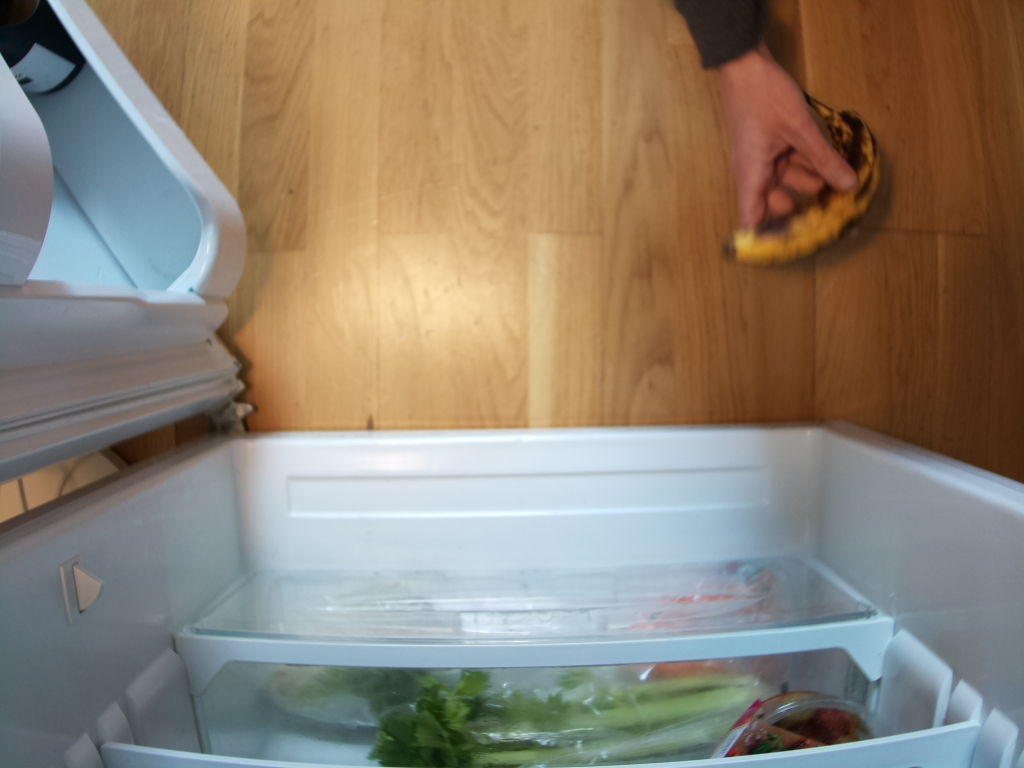banana-overripe: (726, 96, 884, 268)
